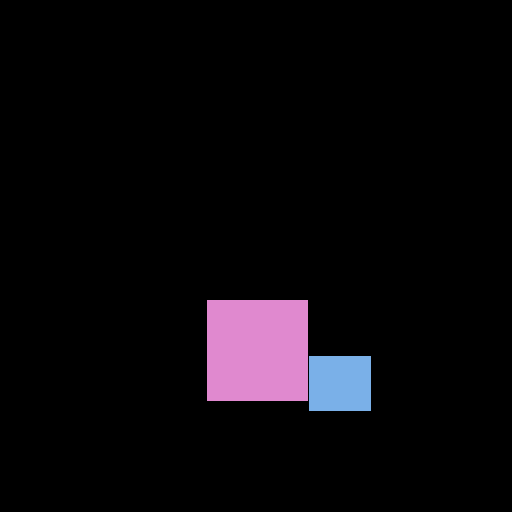rectangle: (309, 356, 370, 410)
square: (207, 300, 307, 400)
